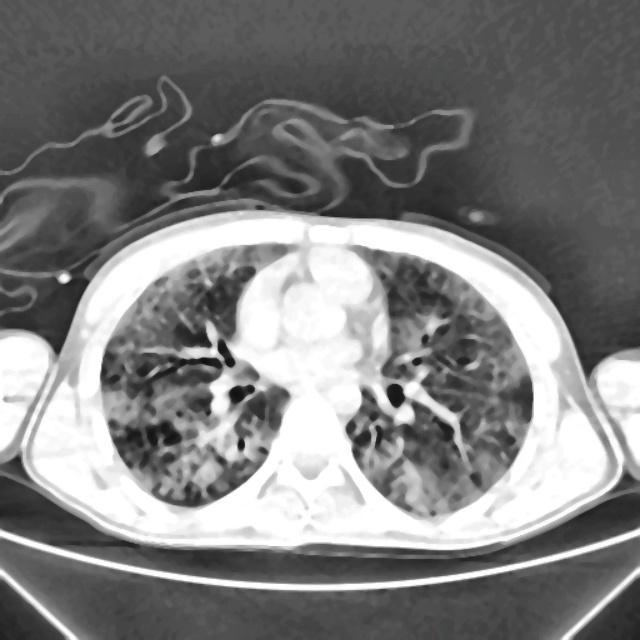covid: (14, 206, 628, 558)
